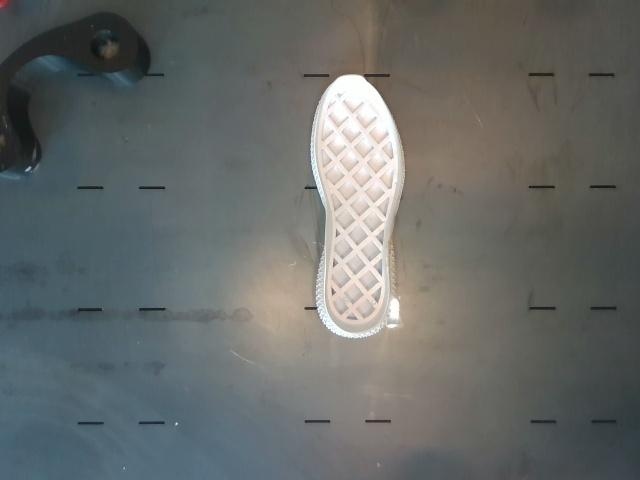shoes: (316, 76, 401, 334)
